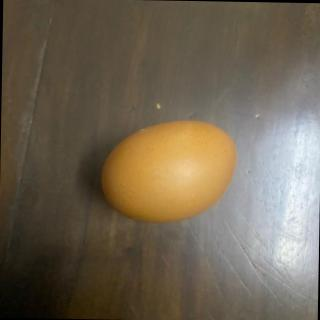Telur: (99, 114, 240, 225)
